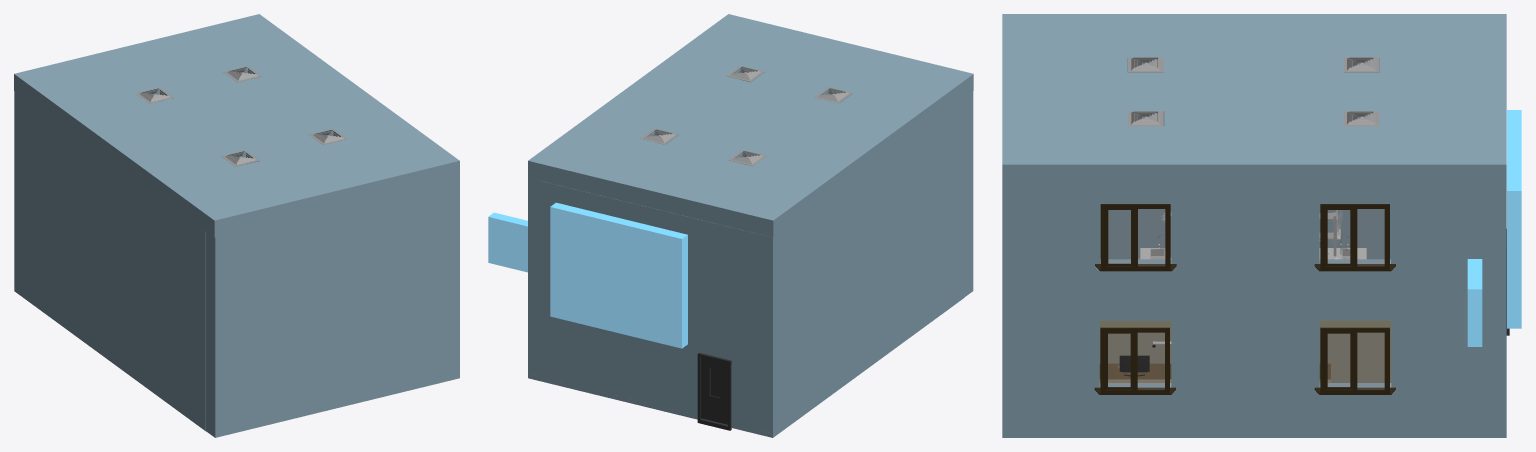
File: experiment-room.glb
3 renders of one model, left to right at view 1: azimuth 30°, elevation 25°; view 2: azimuth 150°, elevation 25°; view 3: azimuth 270°, elevation 25°, orthographic. The views are drawn at different scales.
Size of the model in its own units: 0.4895 by 0.3516 by 0.5945.
66 materials, 4 textured.
